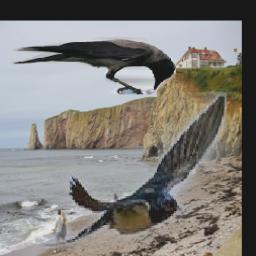Crow: (12, 38, 176, 95)
Swallow: (42, 92, 227, 249)
